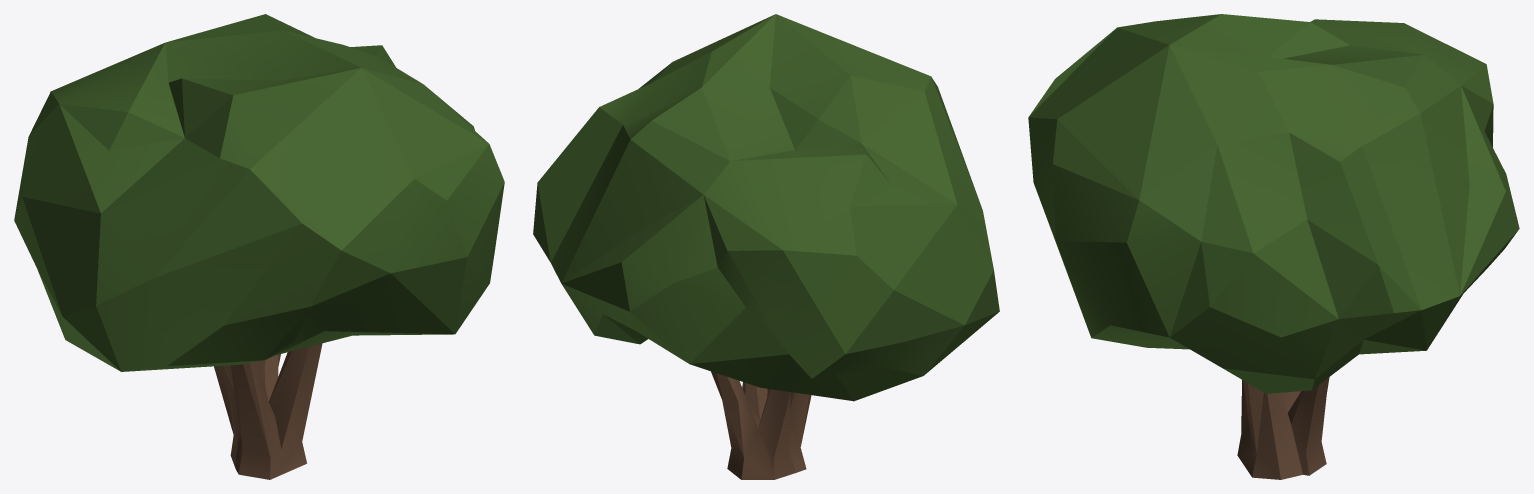
Rendered from BroadleafG.fbx.
3 renders of one model, left to right at view 1: azimuth 30°, elevation 25°; view 2: azimuth 150°, elevation 25°; view 3: azimuth 270°, elevation 25°, orthographic. The views are drawn at different scales.
Parts seen in each view (by area): view 1: BroadleafG; view 2: BroadleafG; view 3: BroadleafG.
Boxes of the visible parts, x1,y1,x2,y2 form: BroadleafG: (14,14,504,479); BroadleafG: (533,14,999,479); BroadleafG: (1028,14,1519,479).
Bounding box in the file's own units: 524 × 523 × 529.
